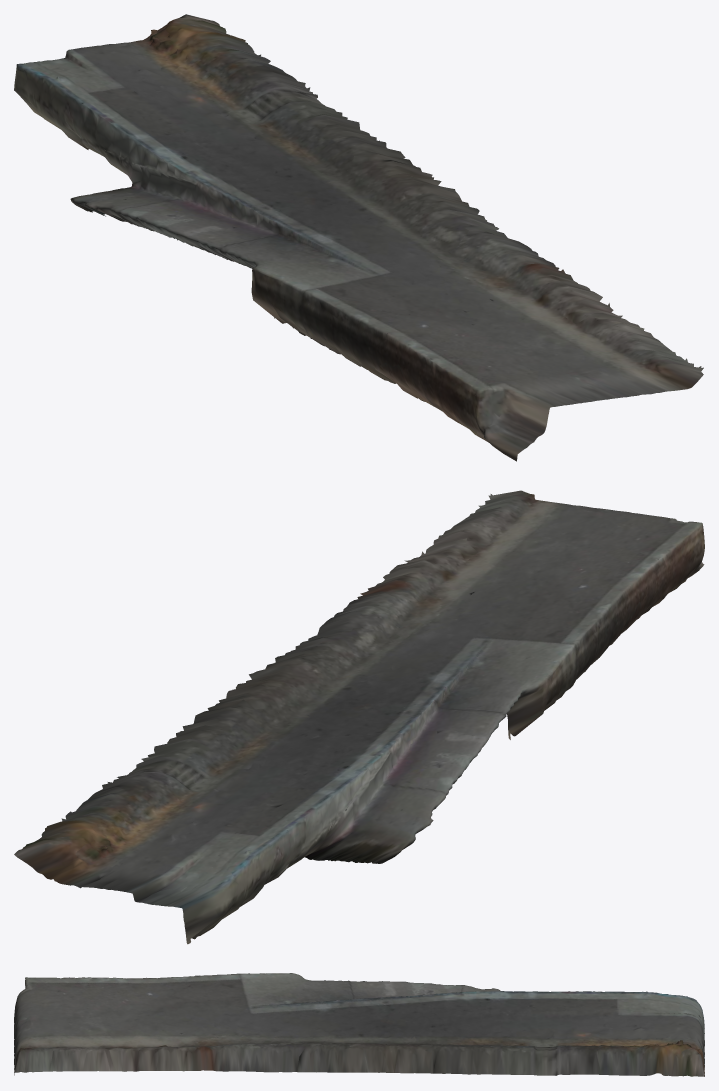
Rendered from run4_p1_c4.glb.
3 renders of one model, top to bottom at view 1: azimuth 30°, elevation 25°; view 2: azimuth 150°, elevation 25°; view 3: azimuth 270°, elevation 25°, orthographic. The views are drawn at different scales.
Visible parts, largest first — view 1: run4_p1_straight_c4; view 2: run4_p1_straight_c4; view 3: run4_p1_straight_c4.
Boxes of the visible parts, bbox=[...] form: run4_p1_straight_c4: bbox=[14, 14, 703, 461]; run4_p1_straight_c4: bbox=[14, 490, 704, 944]; run4_p1_straight_c4: bbox=[14, 973, 704, 1076].
Bounding box in the file's own units: 13.15 × 3.83 × 40.02.
Materials: 1 (1 with a texture image).
